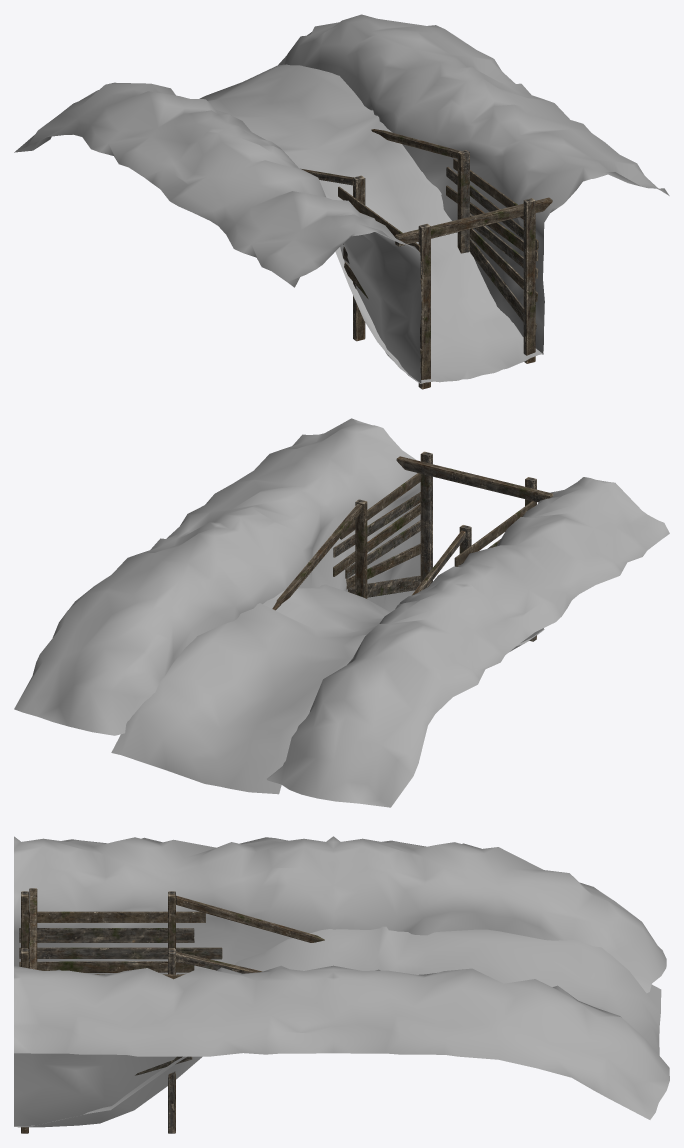
The model's file is Ground_End_Ramp_Wood.fbx.
The picture shows the model from 3 angles, top to bottom: view 1: azimuth 30°, elevation 25°; view 2: azimuth 150°, elevation 25°; view 3: azimuth 270°, elevation 25°; orthographic projection. The views are drawn at different scales.
Visible parts, largest first — view 1: Ground_End_Ramp_Wood_LOD0; view 2: Ground_End_Ramp_Wood_LOD0; view 3: Ground_End_Ramp_Wood_LOD0.
Boxes of the visible parts, x1,y1,x2,y2 form: Ground_End_Ramp_Wood_LOD0: [14, 14, 669, 389]; Ground_End_Ramp_Wood_LOD0: [14, 418, 669, 807]; Ground_End_Ramp_Wood_LOD0: [14, 836, 669, 1133].
Size of what is drawn, in the model's own units: 625 by 269 by 821.
